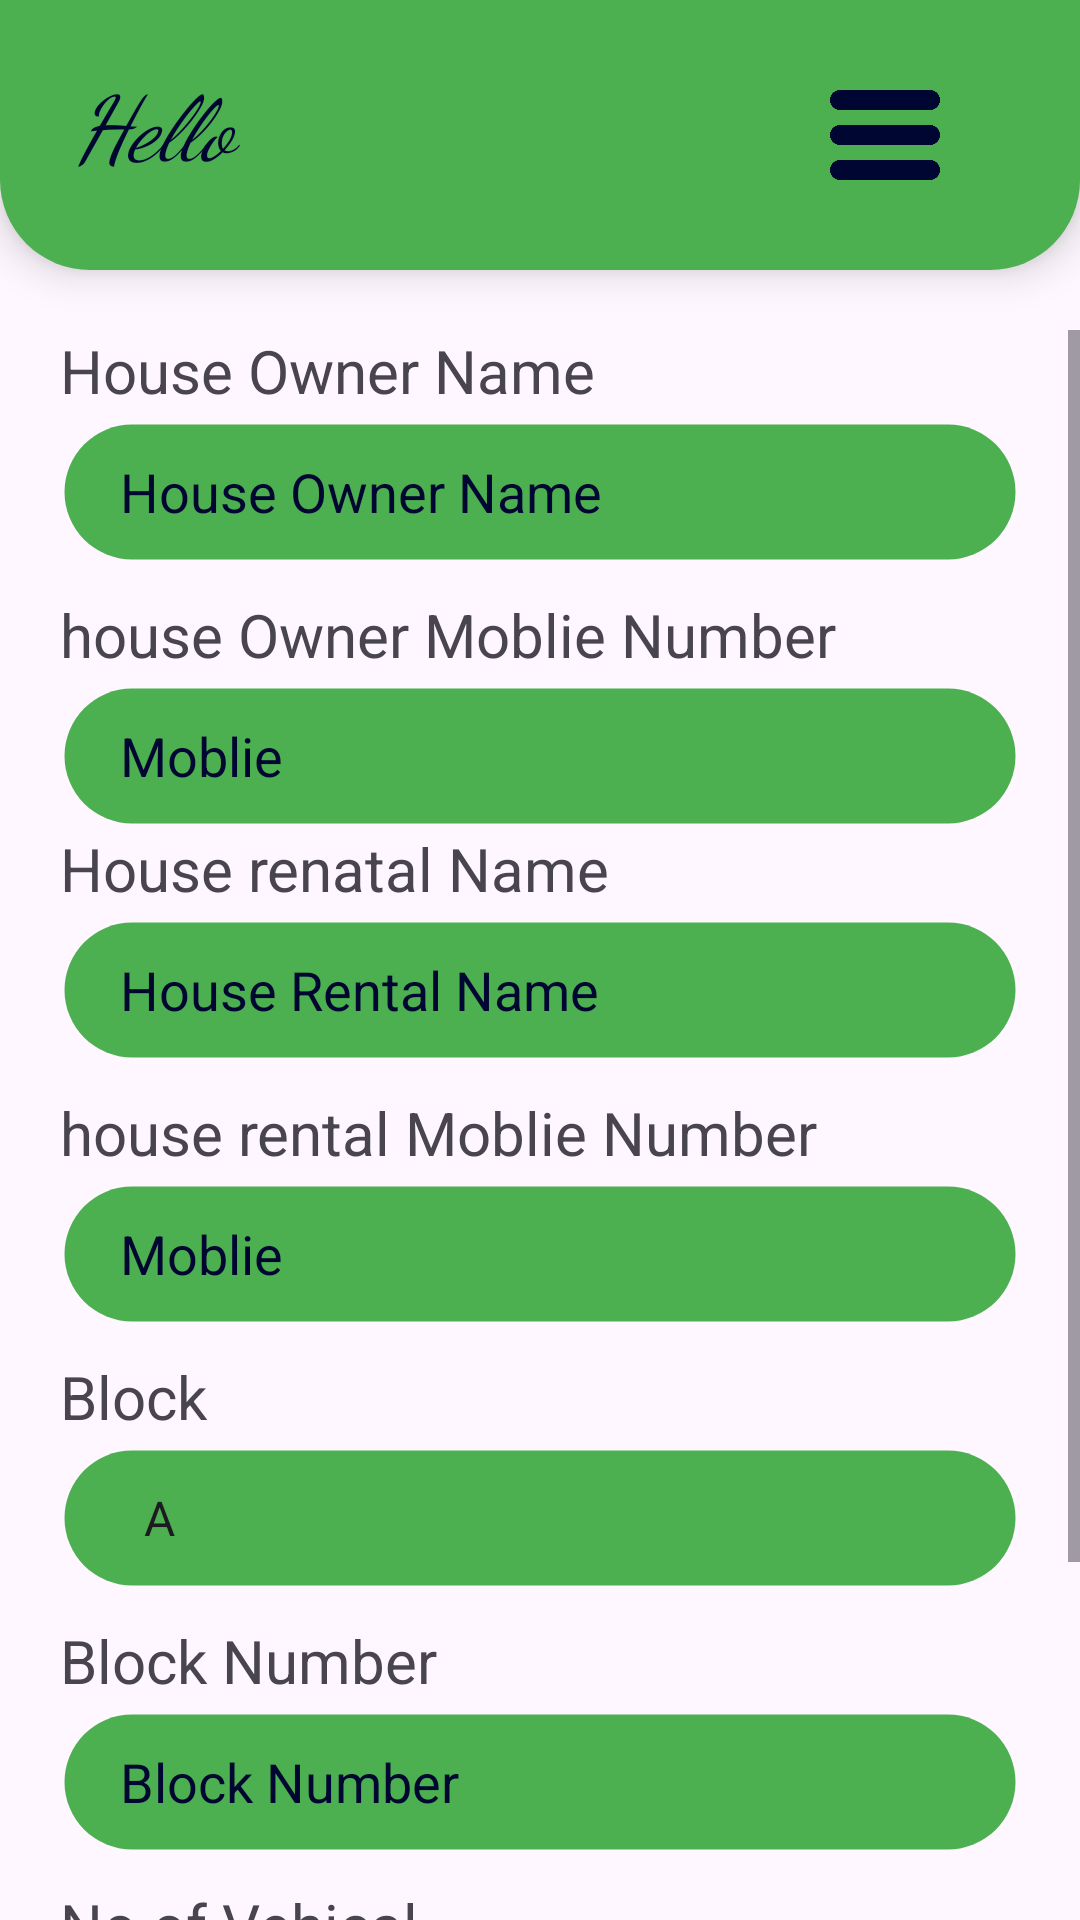

Icon click points for this 1080px×1920px phone screenshot, format (x,y):
menus: (885,135)
